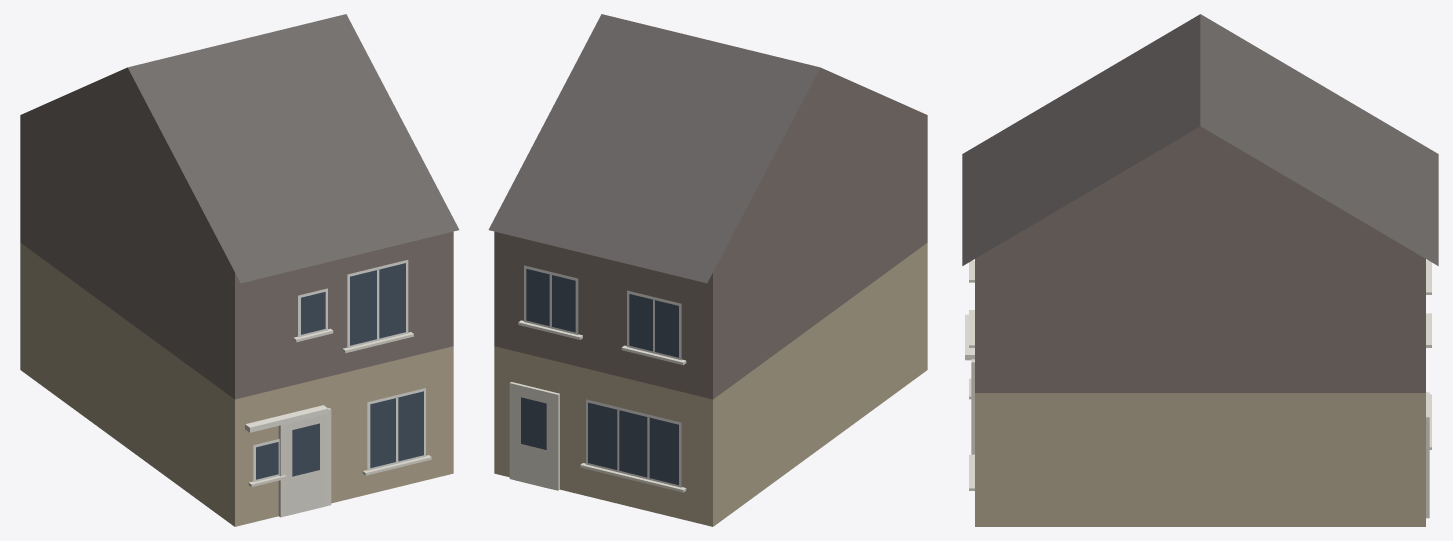
The model's file is zo-rb-two-tone__simonshaven__2__gable__long__solid.glb.
3 views of the same model, side by side, from view 1: azimuth 30°, elevation 25°; view 2: azimuth 150°, elevation 25°; view 3: azimuth 270°, elevation 25° (orthographic). The views are drawn at different scales.
Parts seen in each view (by area): view 1: zo-rb-two-tone__simonshaven__2__gable__long__solid; view 2: zo-rb-two-tone__simonshaven__2__gable__long__solid; view 3: zo-rb-two-tone__simonshaven__2__gable__long__solid.
Boxes of the visible parts, box(x1,y1,x2,y2) form: zo-rb-two-tone__simonshaven__2__gable__long__solid: box(20, 14, 459, 526); zo-rb-two-tone__simonshaven__2__gable__long__solid: box(488, 14, 927, 526); zo-rb-two-tone__simonshaven__2__gable__long__solid: box(962, 14, 1438, 526).
Size of the model in its own units: 5.3 by 8.82 by 9.5.
